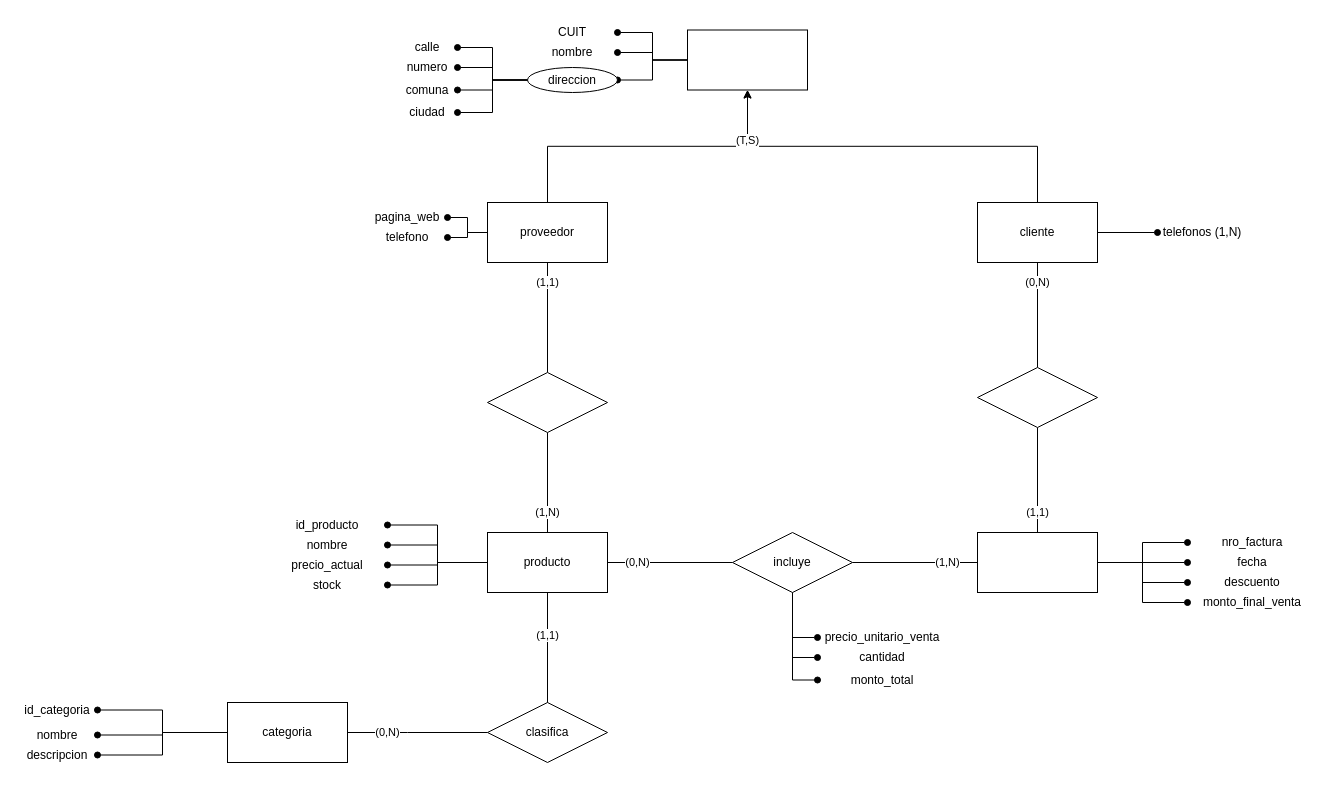
This 1334x787 diagram has some shape labels left out. Here are the shapes that lost their labels. From the top down, the centre of each, then its label:
point (747, 59): persona
point (547, 402): provee
point (1037, 397): realiza
point (1037, 562): factura
